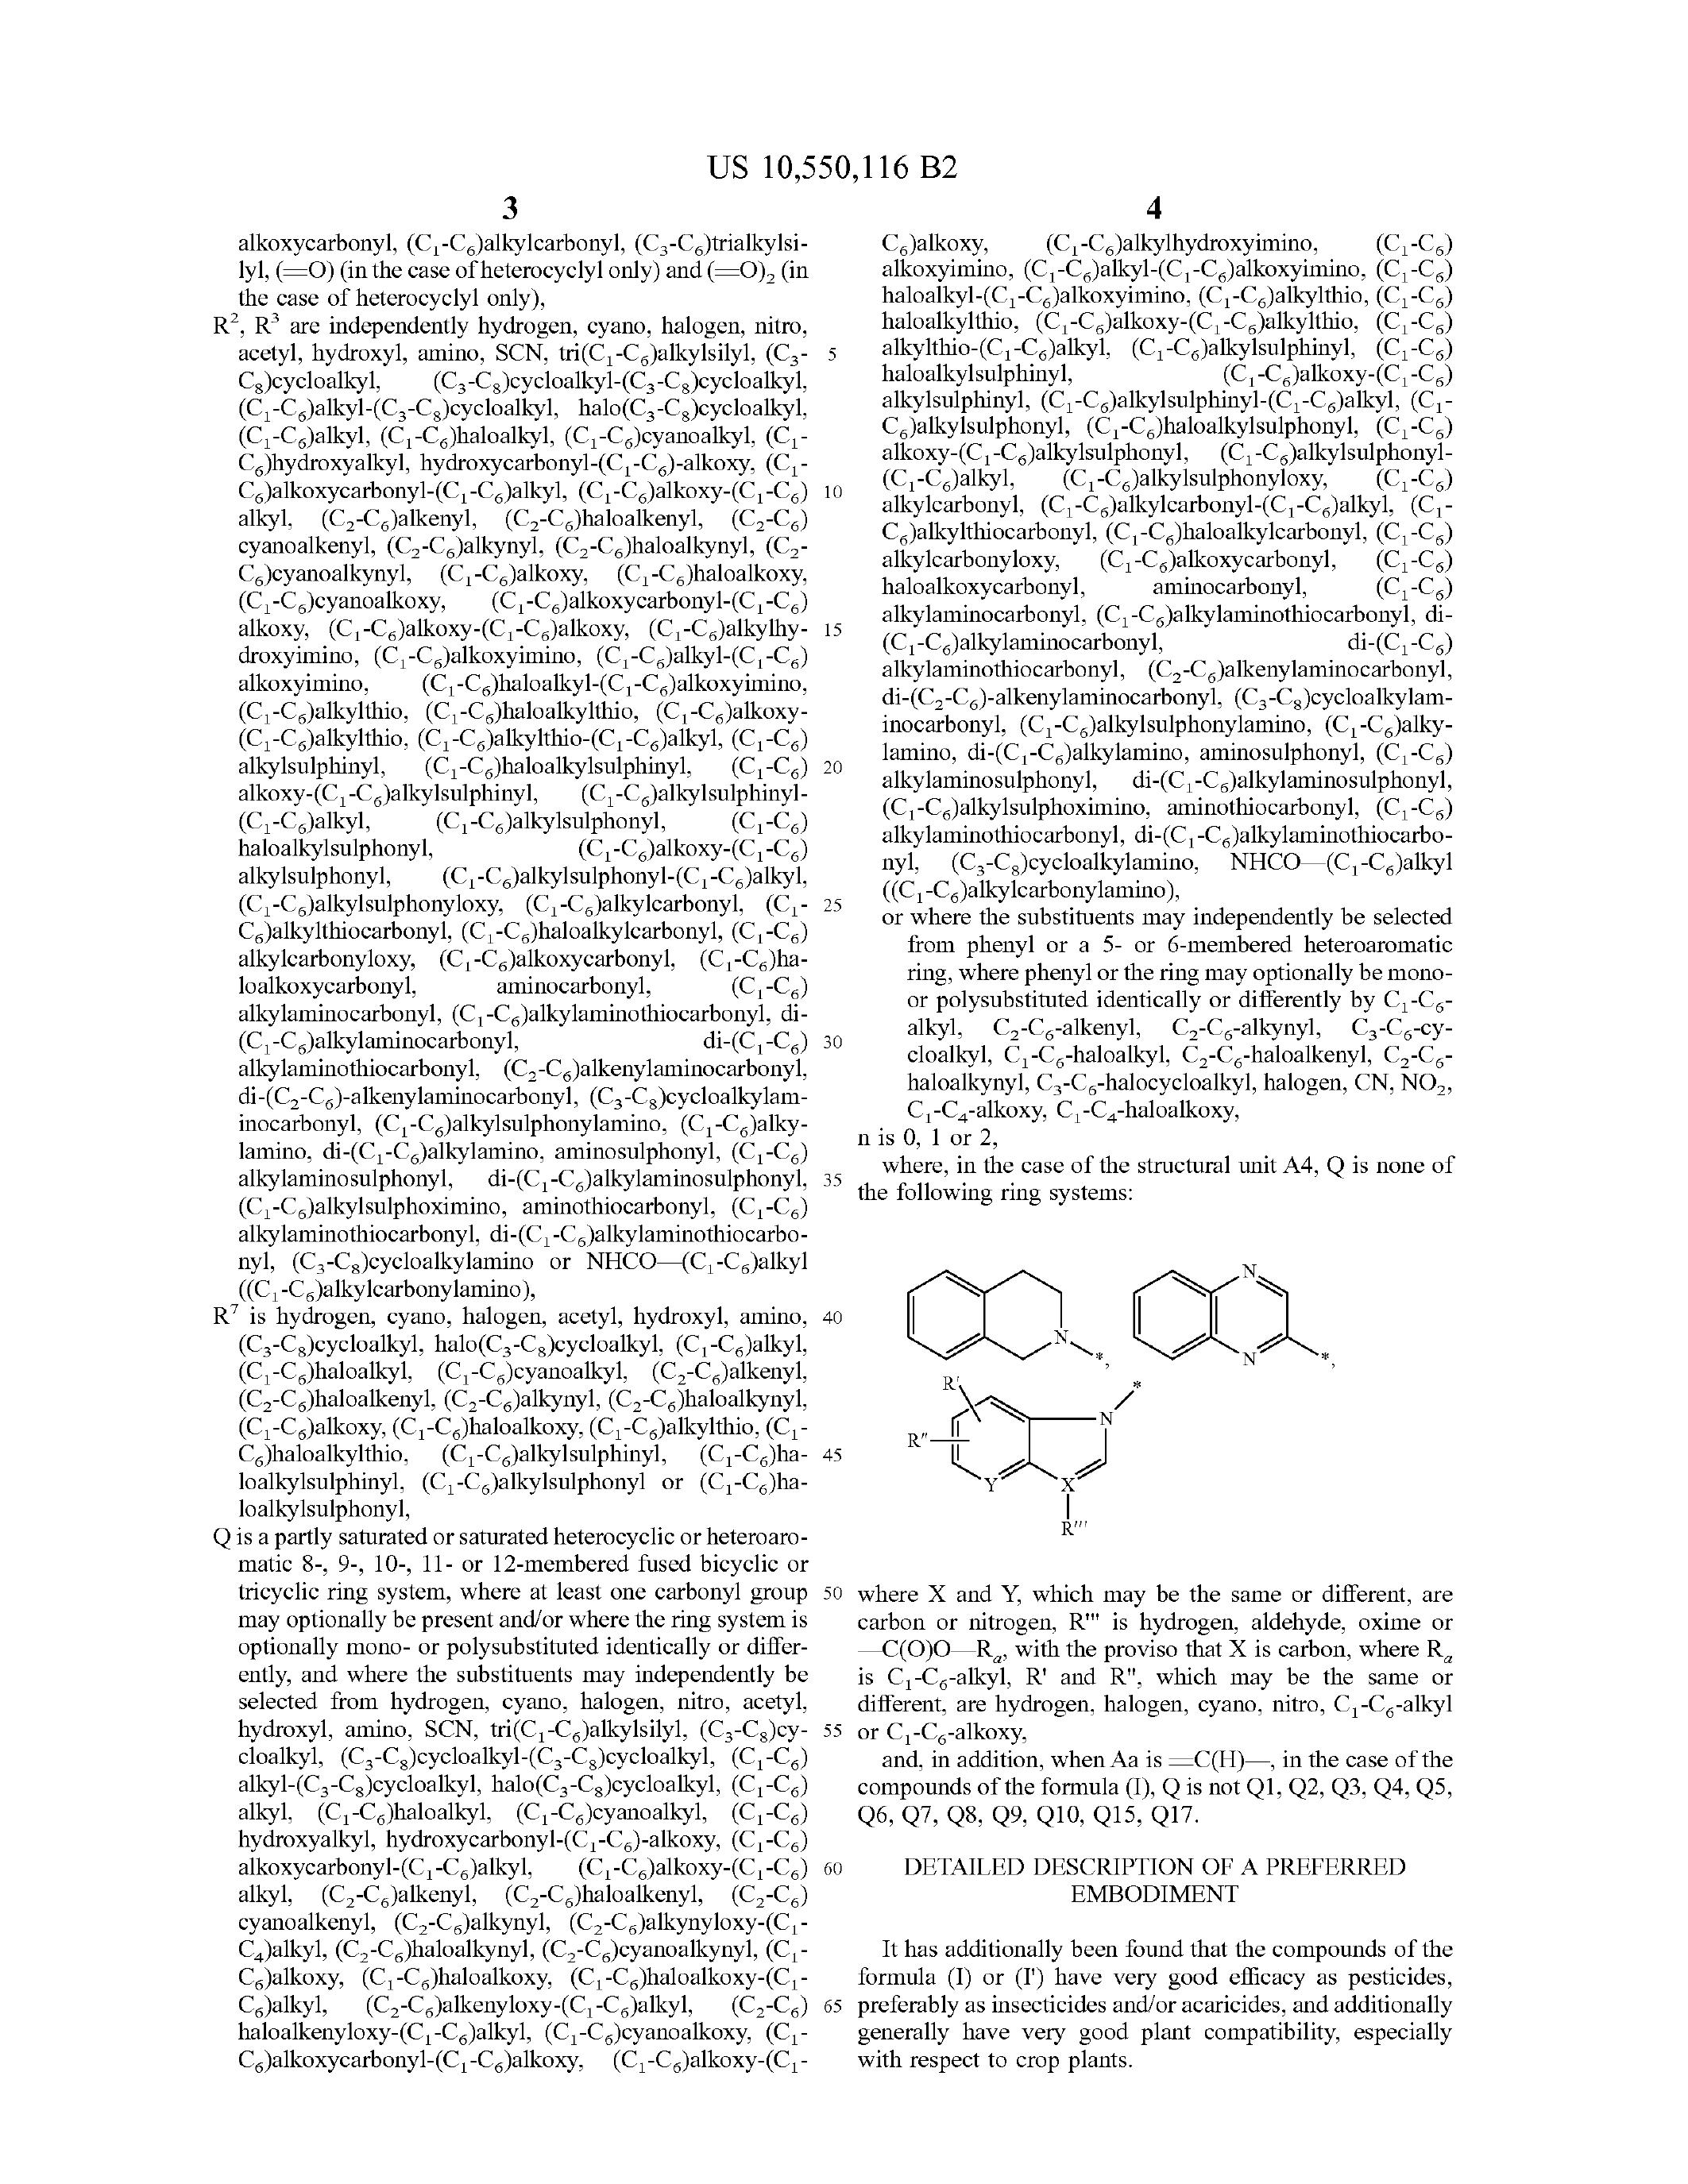reactions: (860, 1213, 1340, 1532)
